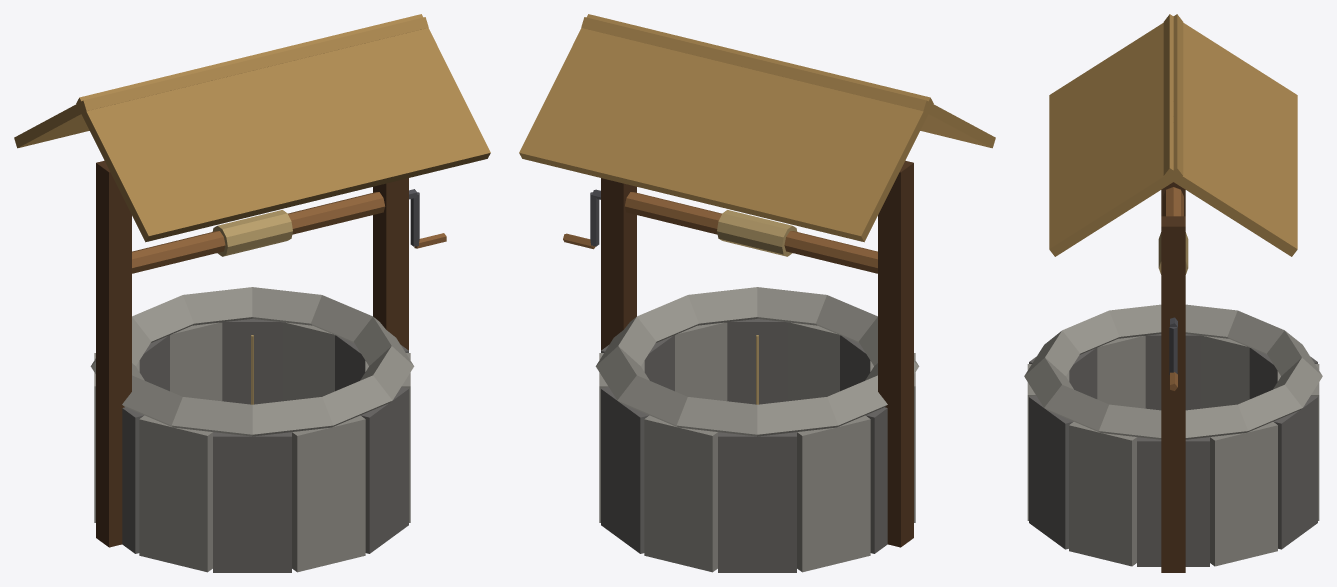
The model's file is well.glb.
The picture shows the model from 3 angles, left to right: view 1: azimuth 30°, elevation 25°; view 2: azimuth 150°, elevation 25°; view 3: azimuth 270°, elevation 25°; orthographic projection. The views are drawn at different scales.
Parts seen in each view (by area): view 1: well, crank; view 2: well, crank; view 3: well, crank.
Part boxes in pixels (<box>): well: <box>14,14,490,572</box>; crank: <box>132,189,446,273</box>; well: <box>519,14,995,572</box>; crank: <box>563,189,877,273</box>; well: <box>1024,14,1322,572</box>; crank: <box>1158,187,1188,390</box>.
Size of the model in its own units: 2.23 by 2.63 by 1.72.
